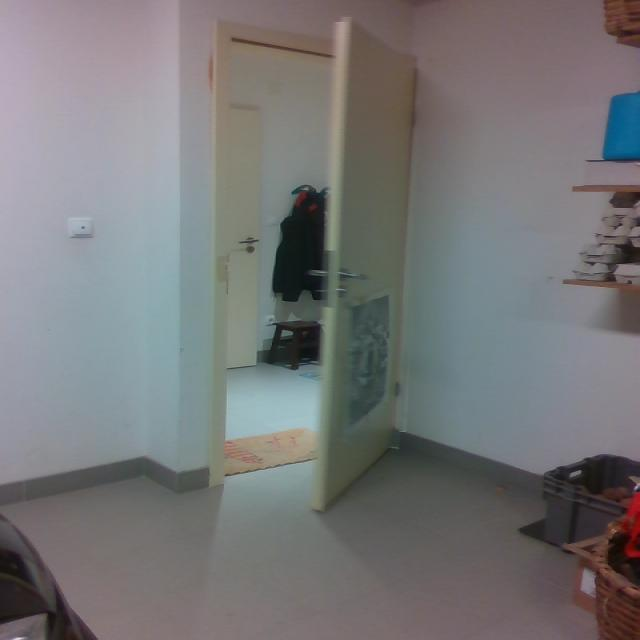Door: (308, 14, 427, 522)
